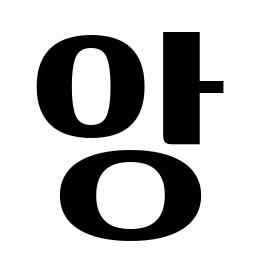Gaji: (151, 65, 213, 113)
